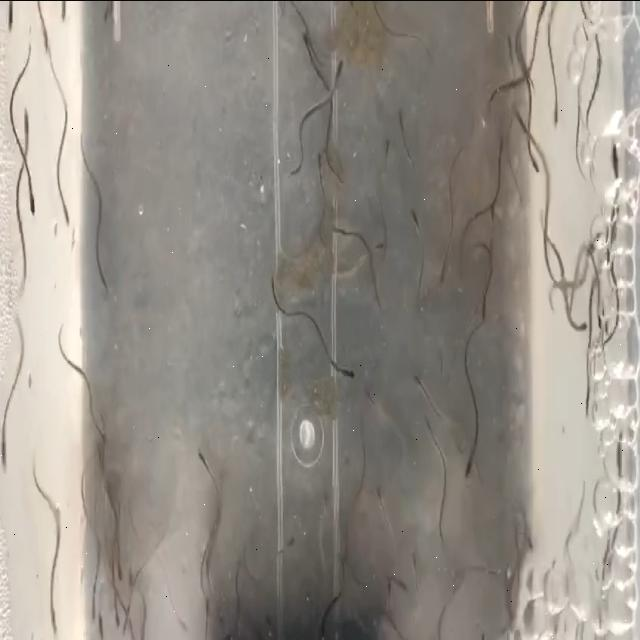active_glass_eel: (584, 212, 608, 260), (609, 140, 628, 200), (328, 46, 348, 92), (123, 548, 138, 608), (107, 580, 121, 638), (436, 240, 450, 298), (612, 424, 626, 482), (95, 260, 111, 309), (311, 147, 328, 193), (23, 351, 39, 398), (405, 196, 423, 237), (412, 362, 432, 398), (99, 0, 119, 35), (407, 534, 424, 575), (38, 11, 54, 53), (198, 586, 212, 634), (0, 422, 12, 476), (294, 24, 312, 60), (93, 407, 110, 445), (548, 86, 562, 132), (368, 228, 388, 260), (88, 582, 100, 634), (0, 0, 20, 31), (478, 279, 492, 323), (464, 439, 476, 489), (520, 516, 535, 556), (336, 362, 359, 388), (372, 479, 390, 512), (380, 131, 394, 173), (62, 196, 74, 244), (278, 532, 296, 564), (524, 140, 540, 176), (396, 571, 412, 607), (324, 212, 344, 240), (568, 314, 590, 339), (114, 540, 126, 584), (487, 197, 499, 241), (92, 607, 110, 636), (222, 611, 240, 640), (56, 0, 71, 34), (195, 444, 212, 474), (358, 386, 378, 410), (393, 100, 409, 130), (116, 606, 130, 640), (422, 408, 436, 442), (170, 612, 192, 633), (503, 36, 515, 74), (20, 100, 31, 141), (28, 173, 38, 214), (534, 0, 547, 31), (382, 575, 394, 608)
